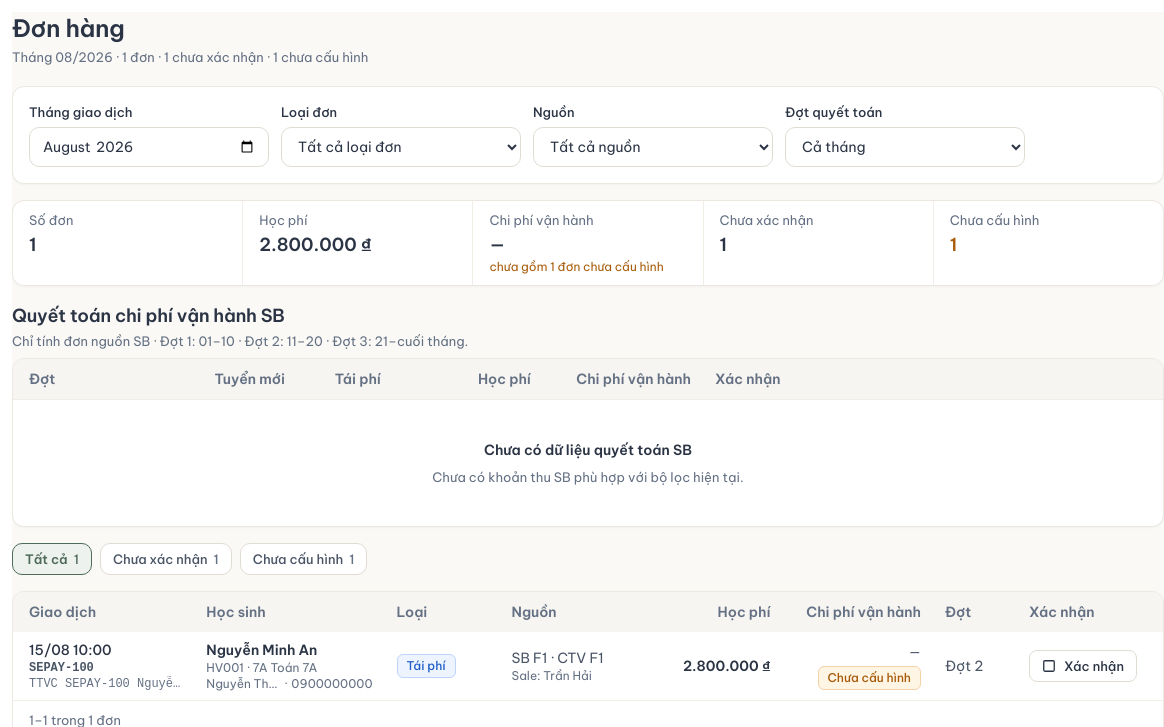
Test: Finance Orders list (step 14c) › toggles a review in place: flipped name, 'vừa xác nhận' and fresh counts, no refresh
Click the button with aria-label "Xác nhận đơn SEPAY-100" at (1083,666), box left=1029, top=650, right=1137, bottom=682
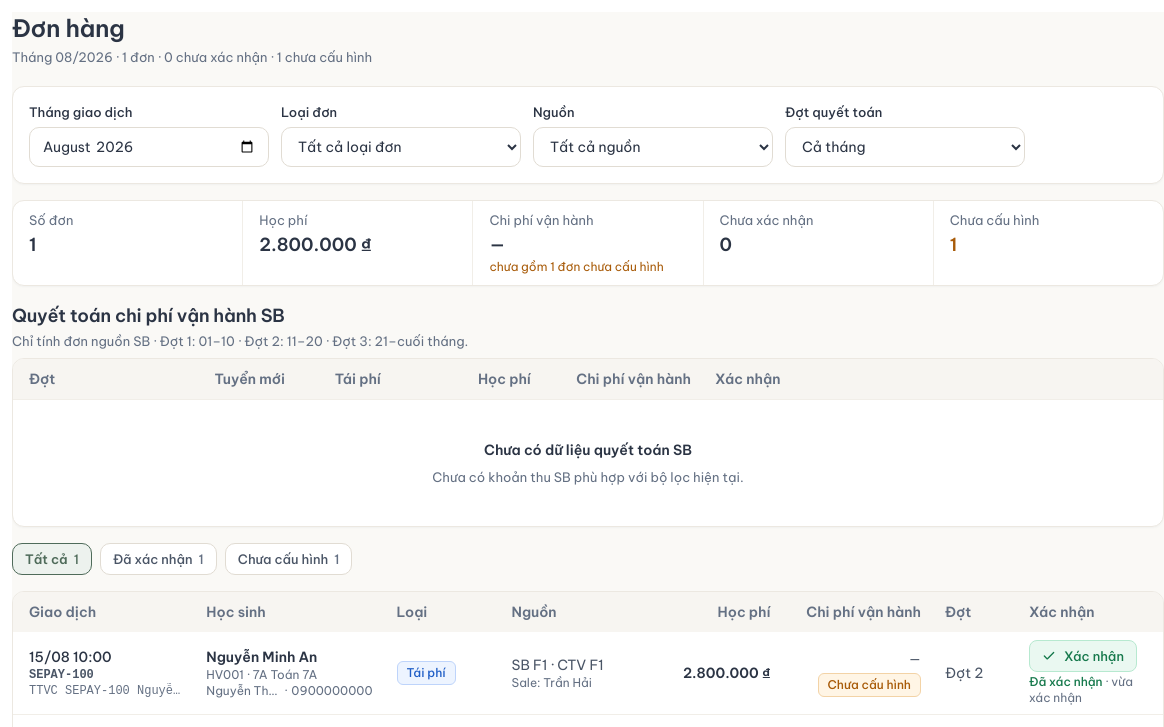
Expected: the text "vừa xác nhận" is shown 2 times
Expected: the text "0" is shown, left=720, top=233, right=732, bottom=256
Expected: the text "Tháng 08/2026 · 1 đơn · 0 chưa xác nhận · 1 chưa cấu hình" is shown, left=12, top=48, right=372, bottom=66
